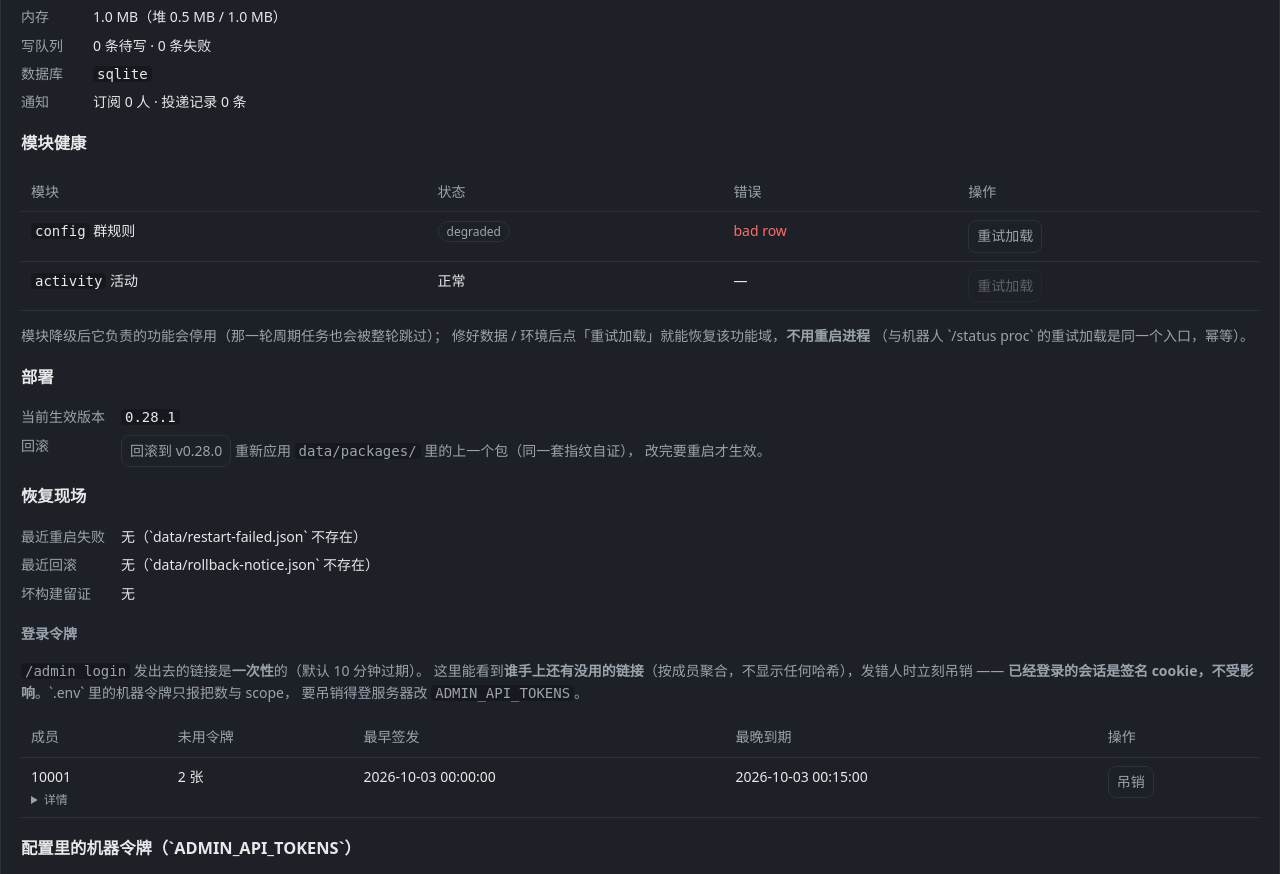
Scenario: StatusView › 有可回滚版本：先二次确认再发 POST，展示服务端回执并刷新健康表
This screenshot has width=1280, height=874.
(page scrolled)
Click the button "回滚到 v0.28.0". click: (176, 451)
box: [121,435,231,467]
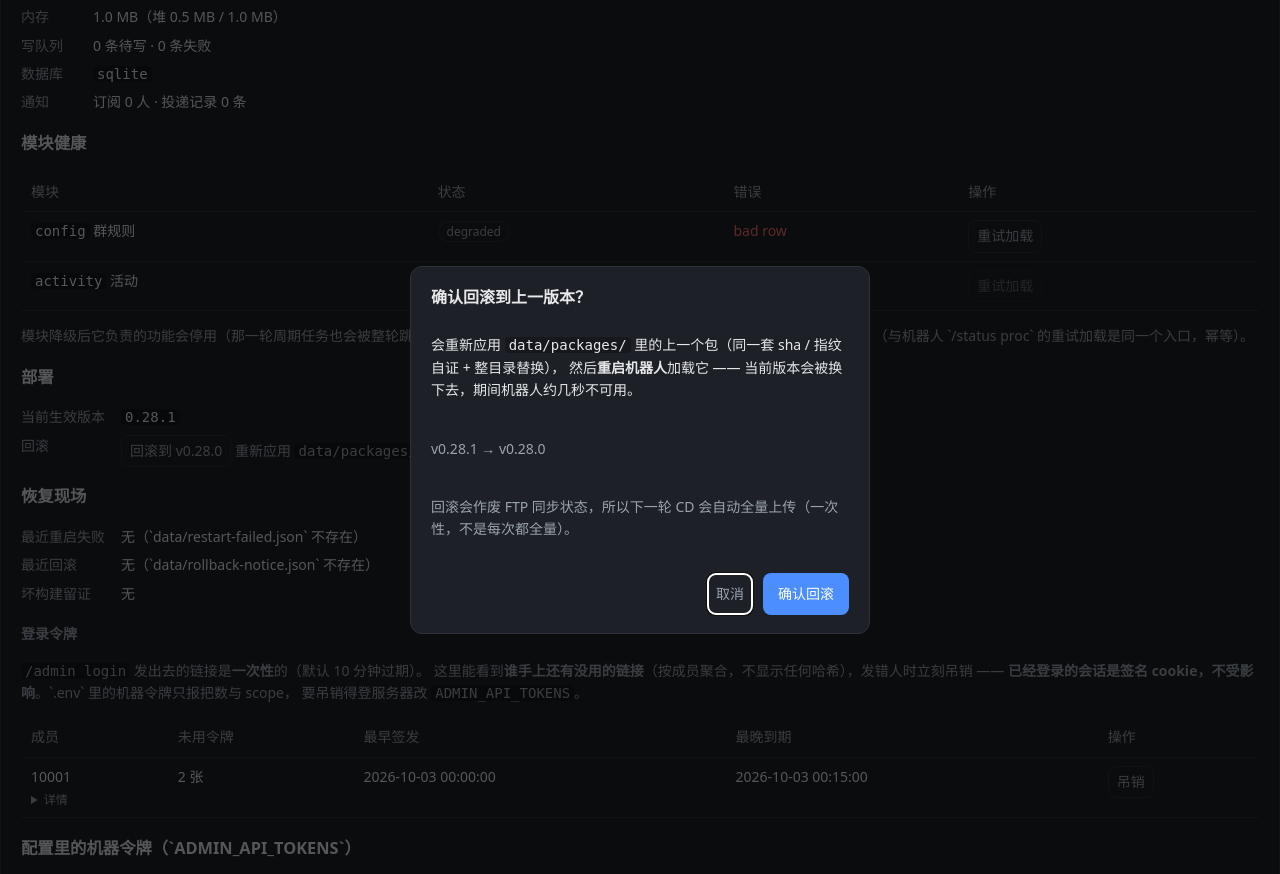
Expected: the text "确认回滚到上一版本？" is shown, [431,286,591,308]
Click the button "确认回滚". click: (806, 594)
box: [763,573,849,615]
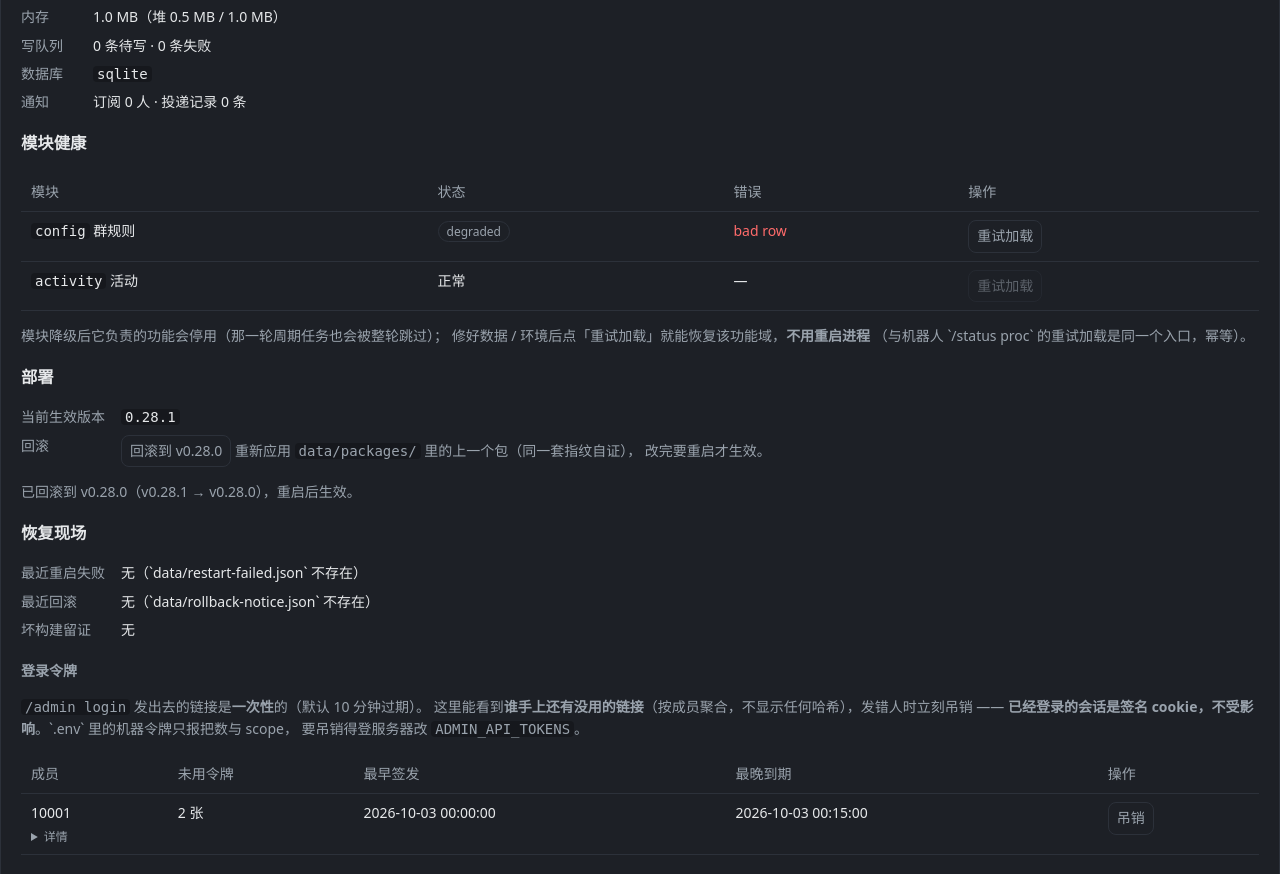
Expected: the text with id "deploy-rollback-notice" shows "已回滚到 v0.28.0", [21,482,361,501]
